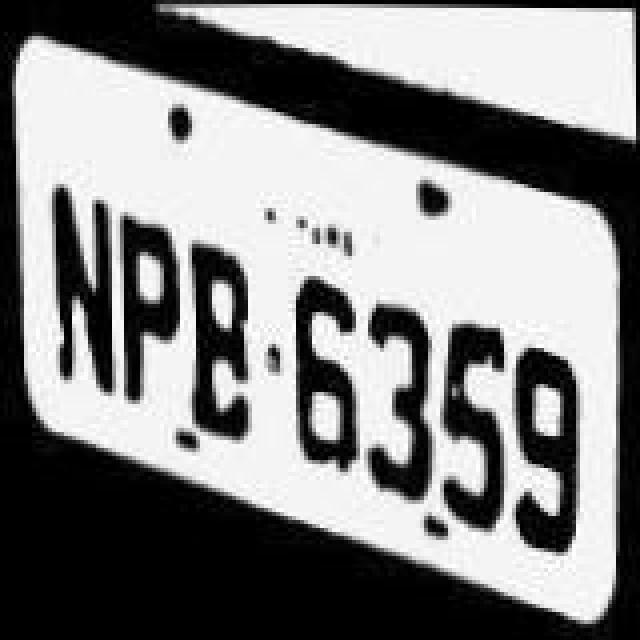3: (362, 284, 442, 512)
5: (438, 306, 510, 542)
6: (294, 268, 366, 500)
9: (506, 316, 586, 568)
B: (188, 222, 260, 442)
N: (40, 118, 116, 402)
P: (116, 156, 188, 412)
